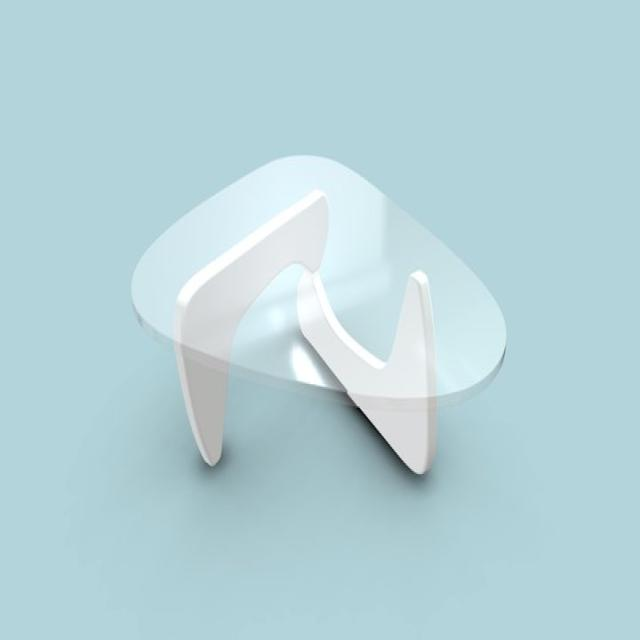table: (132, 151, 510, 478)
